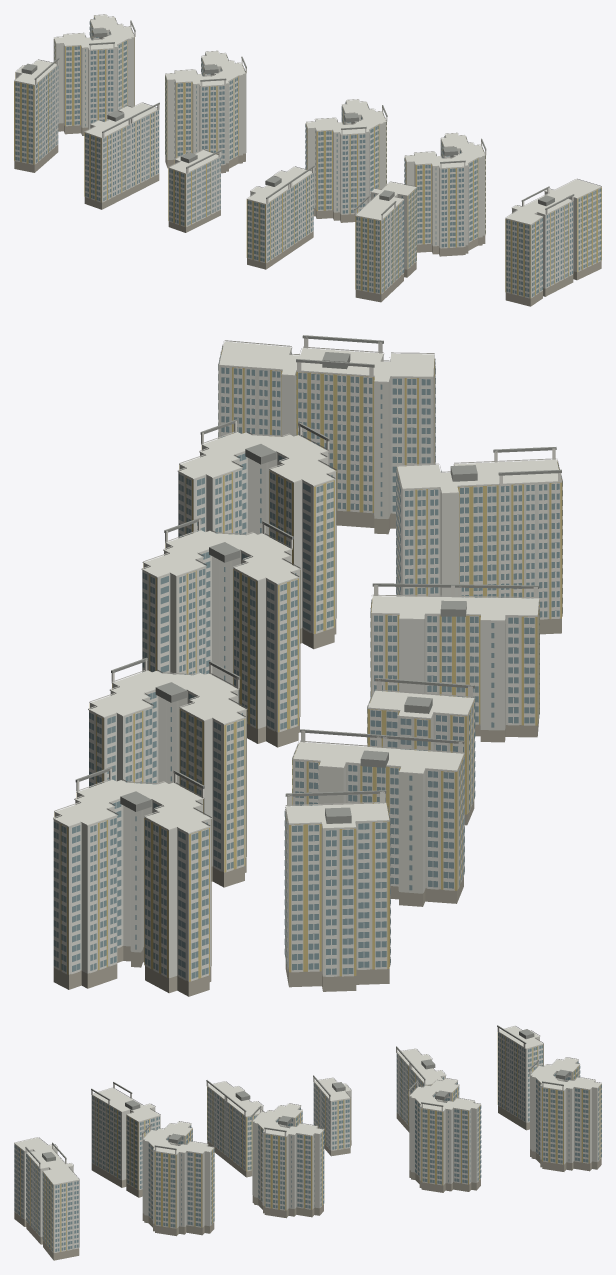
File: representative-a13410004.glb
The picture shows the model from 3 angles, top to bottom: view 1: azimuth 30°, elevation 25°; view 2: azimuth 150°, elevation 25°; view 3: azimuth 270°, elevation 25°; orthographic projection. The views are drawn at different scales.
Visible parts, largest first — view 1: A13410004_trim002, A13410004_wall002, A13410004_glass002, A13410004_accent002, A13410004_base002, A13410004_roof002; view 2: A13410004_wall002, A13410004_trim002, A13410004_glass002, A13410004_accent002, A13410004_base002, A13410004_roof002; view 3: A13410004_wall002, A13410004_trim002, A13410004_glass002, A13410004_accent002, A13410004_base002, A13410004_roof002.
Boxes of the visible parts, x1,y1,x2,y2 form: A13410004_trim002: (14,14,601,298); A13410004_wall002: (15,15,601,298); A13410004_glass002: (15,18,601,296); A13410004_accent002: (14,16,601,298); A13410004_base002: (14,123,601,306); A13410004_roof002: (21,20,574,215); A13410004_wall002: (53,341,561,981); A13410004_trim002: (53,336,562,981); A13410004_glass002: (53,346,562,978); A13410004_accent002: (54,349,562,981); A13410004_base002: (53,510,561,996); A13410004_roof002: (75,335,561,823); A13410004_wall002: (14,1026,601,1252); A13410004_trim002: (14,1026,601,1252); A13410004_glass002: (14,1033,601,1251); A13410004_accent002: (17,1032,601,1252); A13410004_base002: (14,1106,601,1260); A13410004_roof002: (25,1025,569,1164).
Bounding box in the file's own units: 173 × 46.15 × 281.
